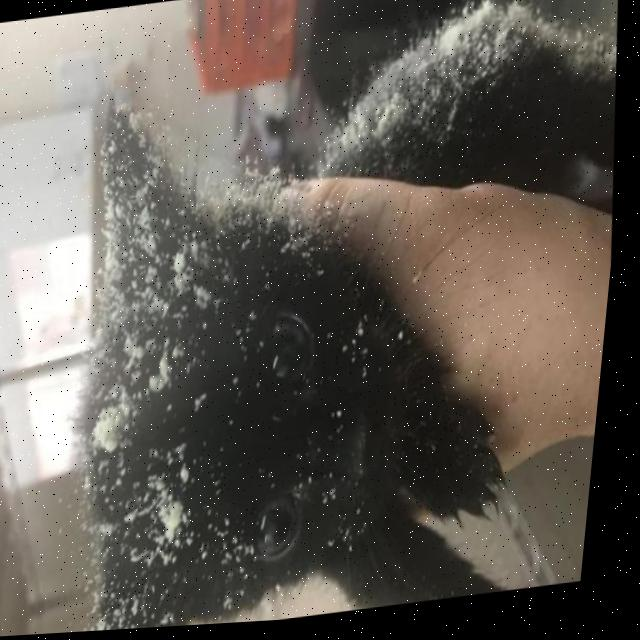Cats: (8, 0, 638, 637)
